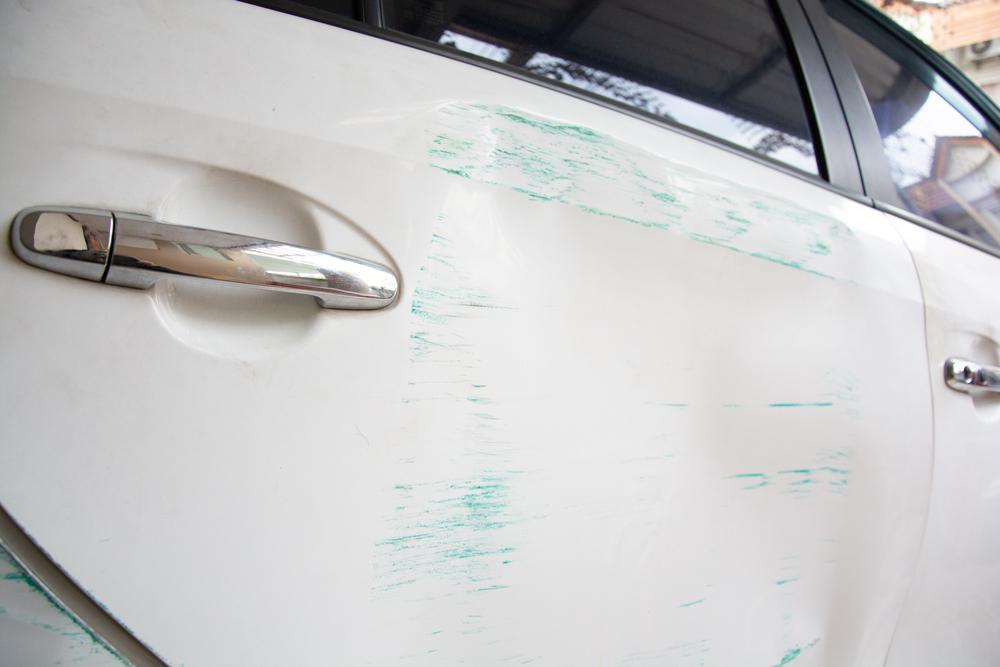dent: (369, 101, 884, 667)
scratch: (0, 541, 134, 667)
